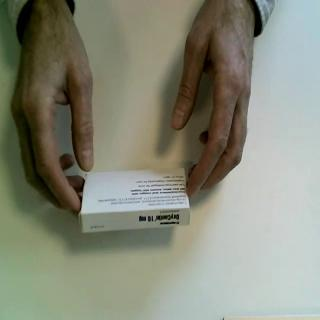oxycontin15mg: (79, 167, 191, 235)
